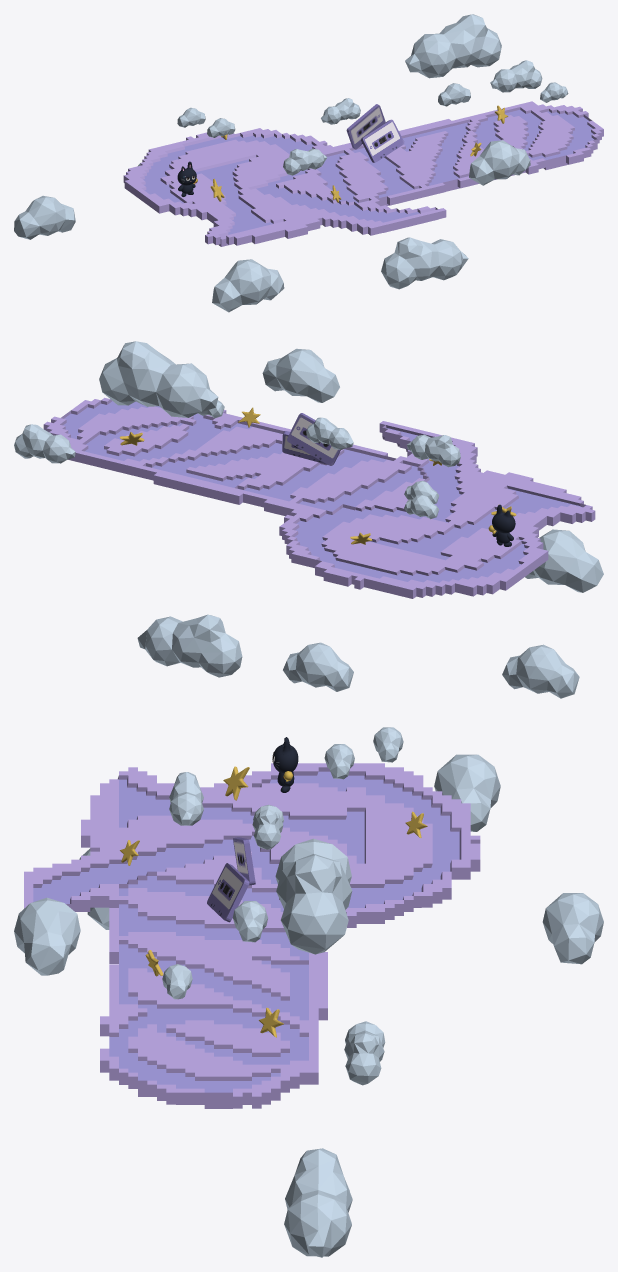
The picture shows the model from 3 angles, top to bottom: view 1: azimuth 30°, elevation 25°; view 2: azimuth 150°, elevation 25°; view 3: azimuth 270°, elevation 25°; orthographic projection. The views are drawn at different scales.
Visible parts, largest first — view 1: floor, Icosphere.010, tape, simplehead; view 2: floor, Icosphere.010, tape, simplehead; view 3: floor, Icosphere.010, tape, simplehead.
Boxes of the visible parts, x1,y1,x2,y2 form: floor: (123, 101, 603, 246); Icosphere.010: (14, 14, 568, 312); tape: (346, 104, 404, 162); simplehead: (177, 161, 197, 196); floor: (43, 397, 595, 598); Icosphere.010: (14, 341, 603, 698); tape: (282, 413, 340, 465); simplehead: (488, 504, 515, 546); floor: (24, 763, 480, 1108); Icosphere.010: (14, 727, 603, 1257); tape: (207, 837, 255, 922); simplehead: (272, 737, 298, 792).
Bounding box in the file's own units: 224 × 110 × 140.
Materials: 15 (3 with a texture image).
